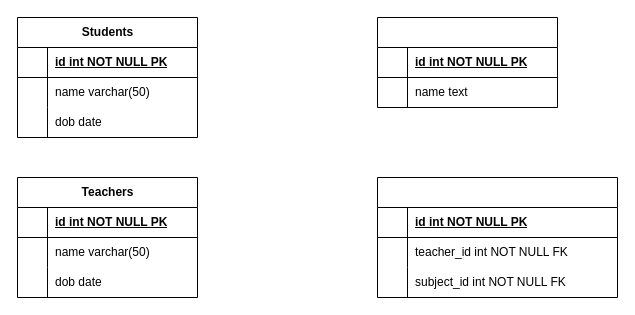
This 635x315 diagram has some shape labels left out. The shapes that lost their labels are listed below. From the top down, each one's box as (x1, y1, x2, y2) in pixels, then its label:
(376, 16, 558, 108): Subjects
(376, 176, 618, 298): Courses
